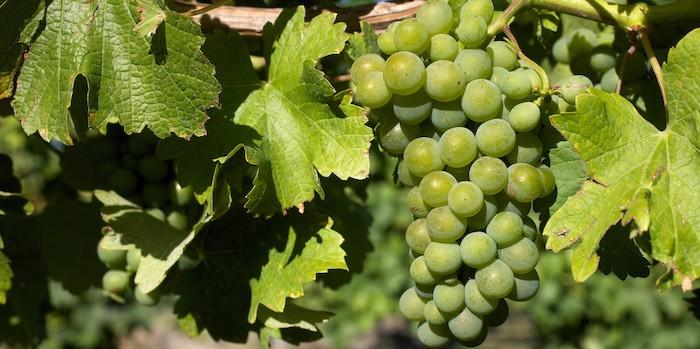Green grapes: (341, 4, 581, 349)
